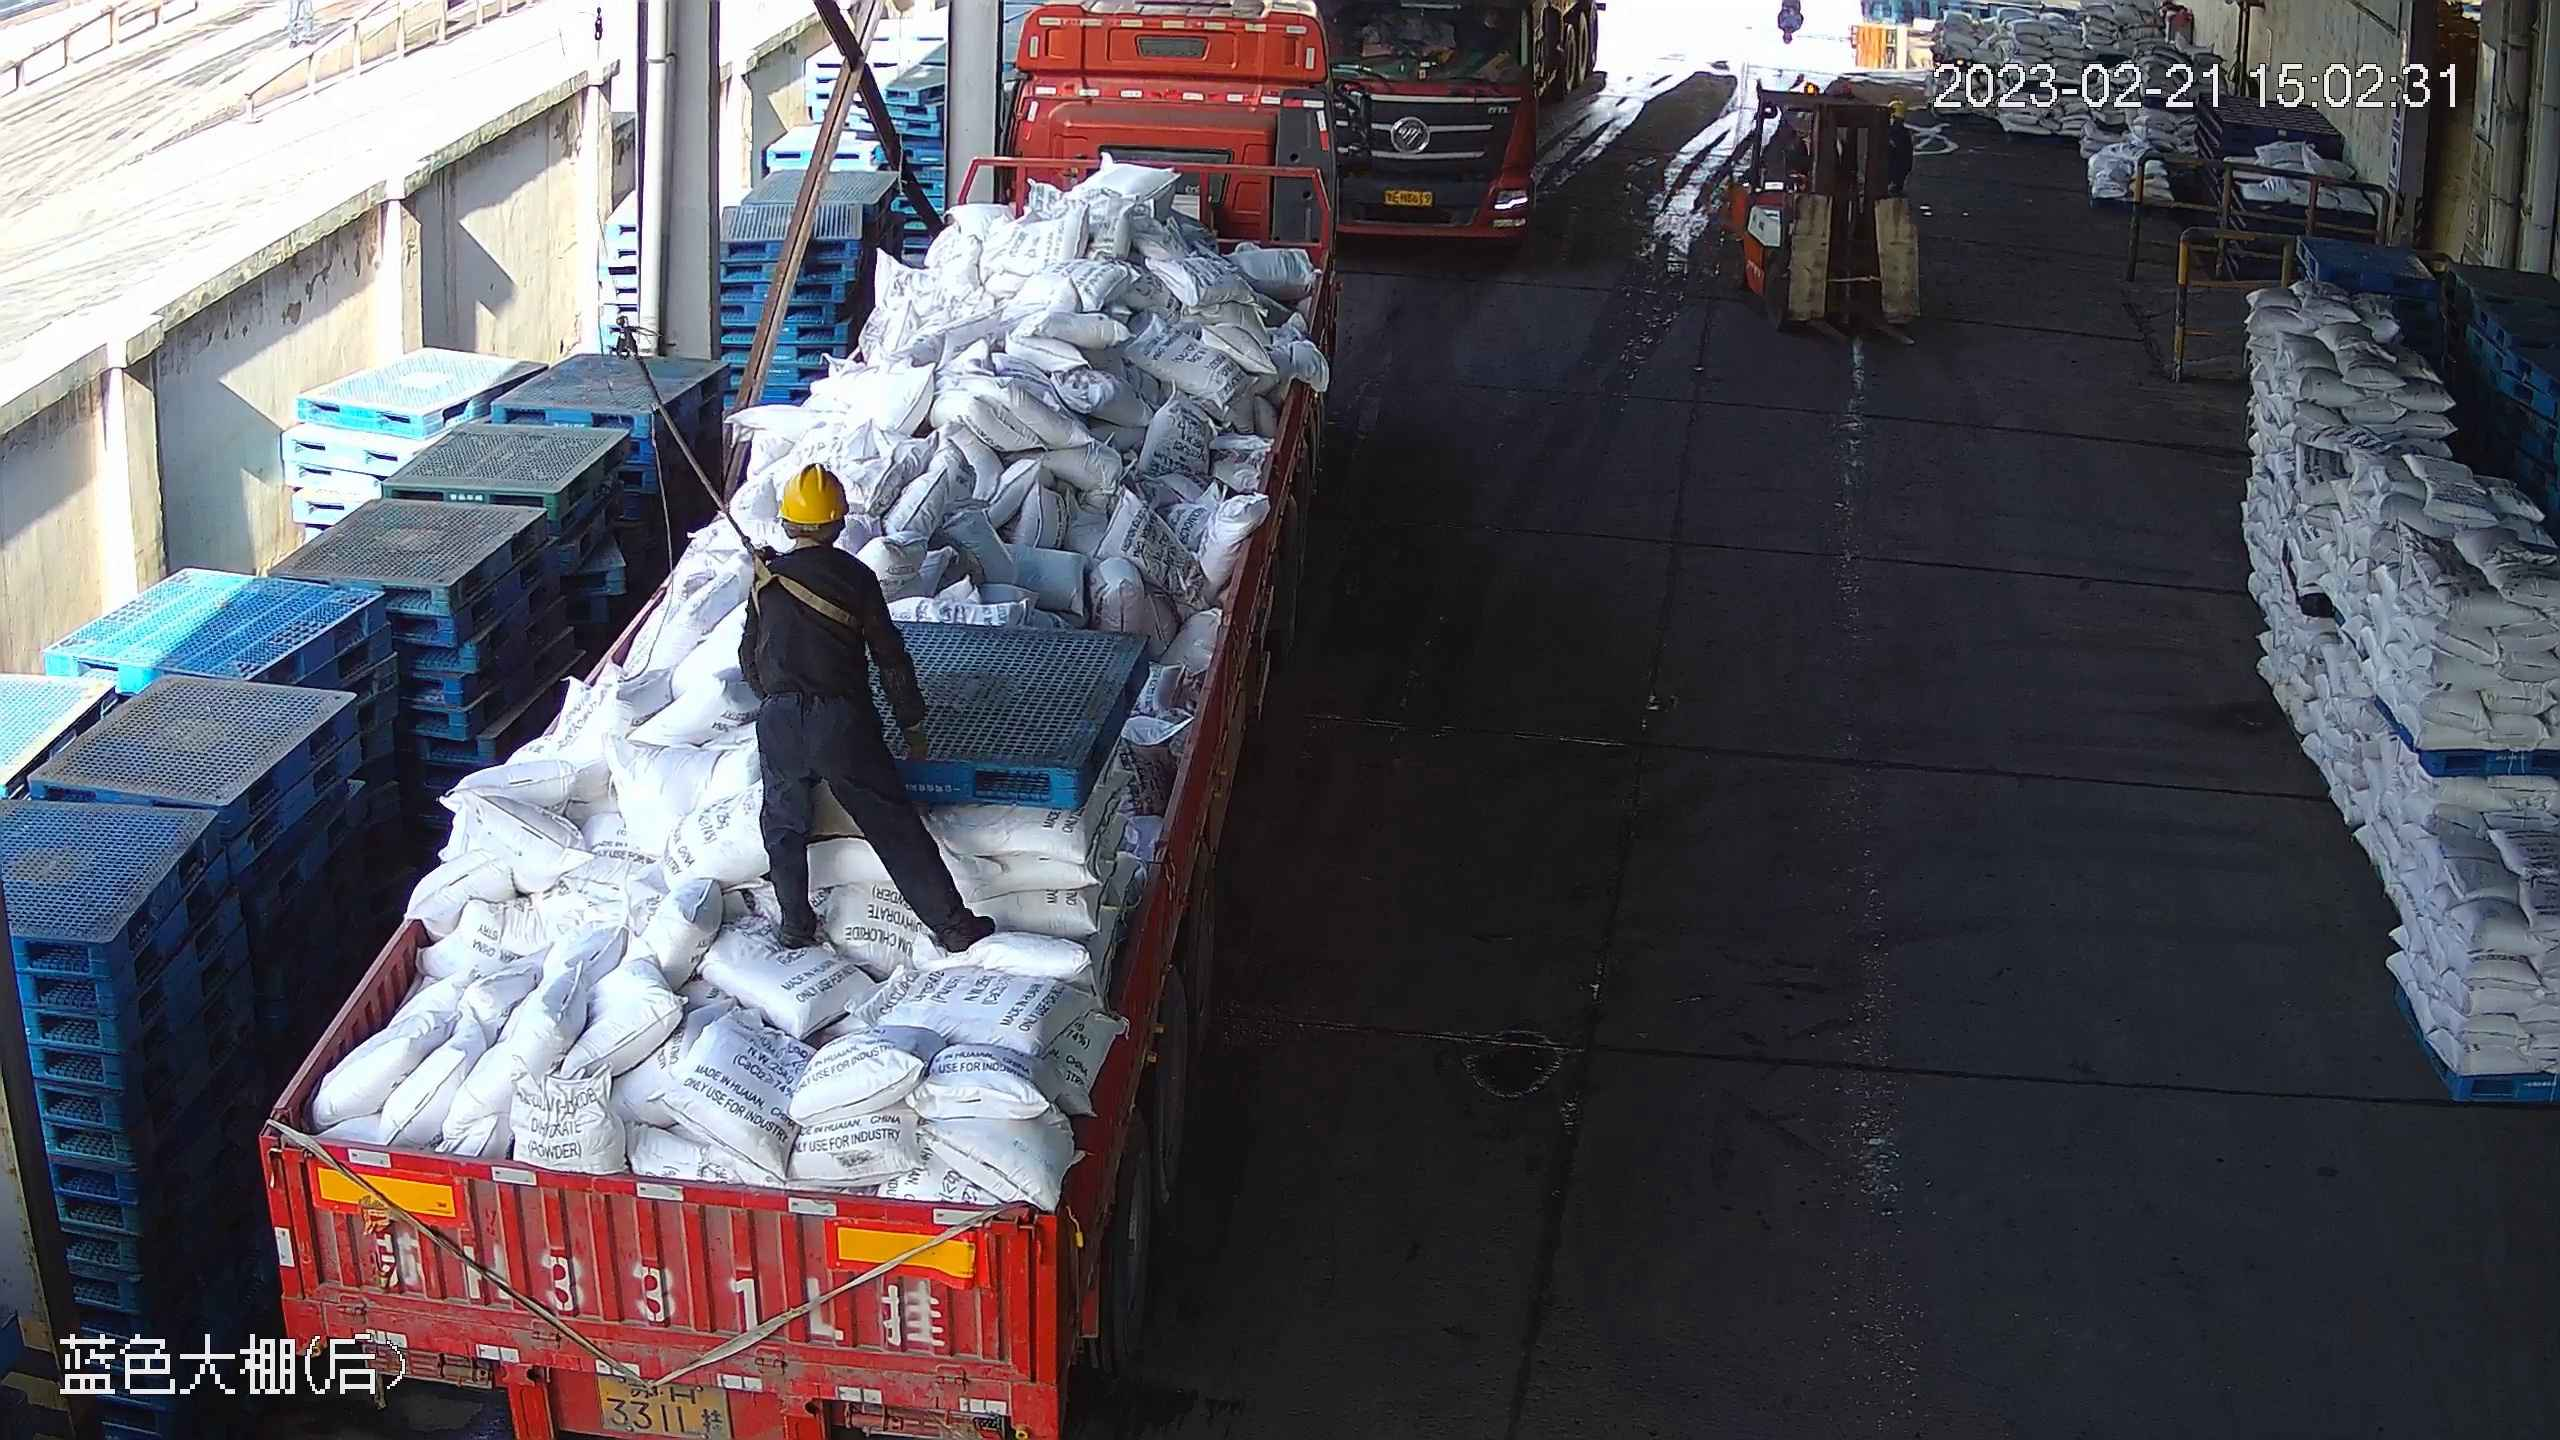belt: (749, 556, 866, 621)
head: (727, 456, 885, 617)
helmet: (766, 454, 853, 525)
people: (732, 456, 1003, 969)
truck: (242, 3, 1333, 1440), (1325, 1, 1622, 245)
